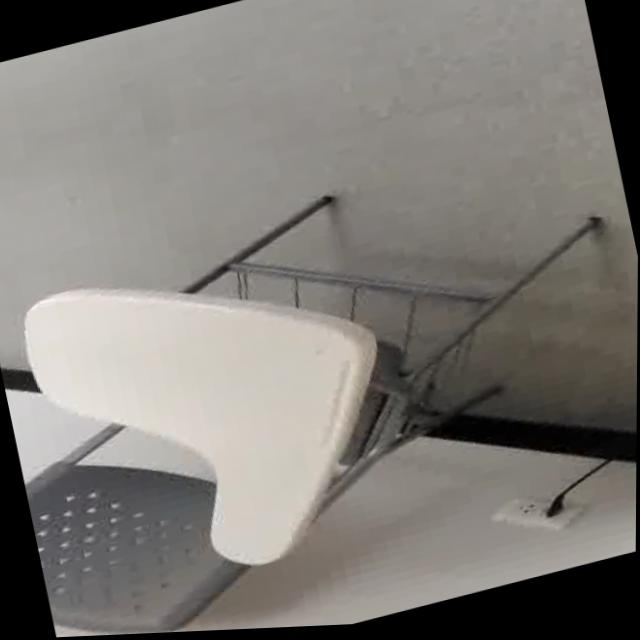chair: (0, 117, 639, 640)
